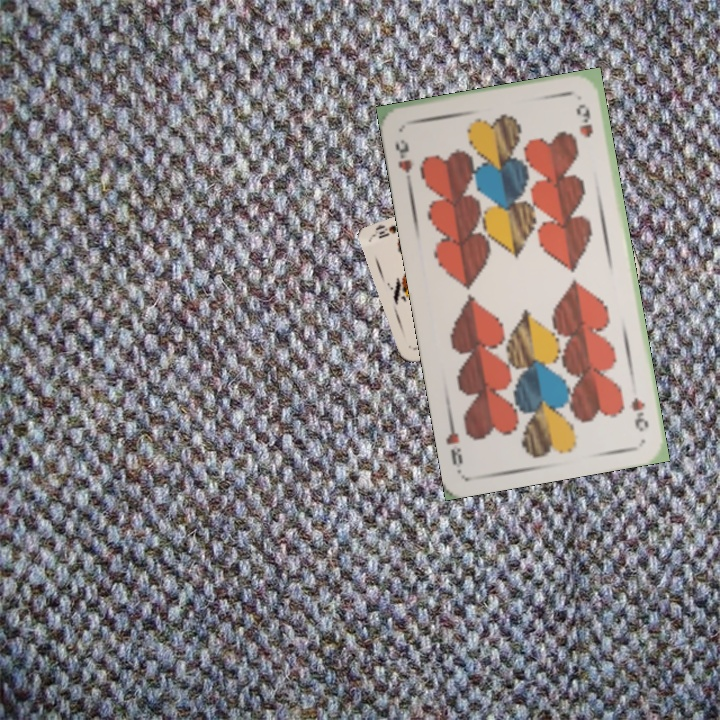H9: (391, 135, 415, 186), (626, 393, 651, 434)
